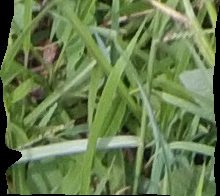grass: (1, 1, 219, 194)
